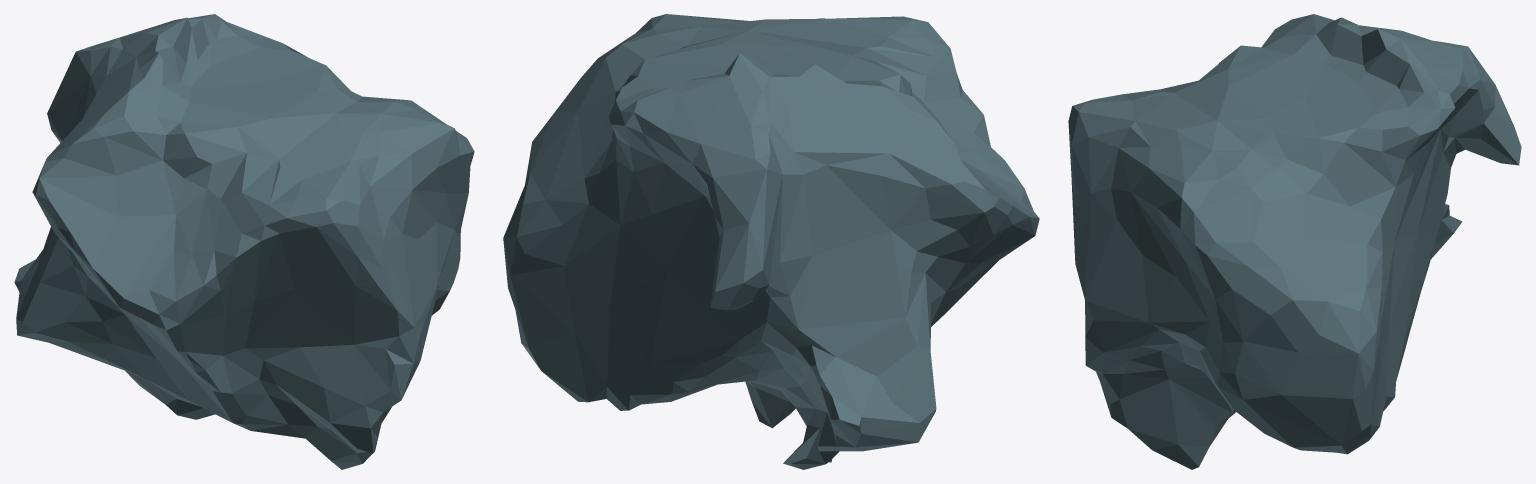
Rendered from RockBB.fbx.
3 views of the same model, side by side, from view 1: azimuth 30°, elevation 25°; view 2: azimuth 150°, elevation 25°; view 3: azimuth 270°, elevation 25° (orthographic). The views are drawn at different scales.
Visible parts, largest first — view 1: Rock_B_LOD0; view 2: Rock_B_LOD0; view 3: Rock_B_LOD0.
Part boxes in pixels (left/top/right/bottom): Rock_B_LOD0: left=14, top=14, right=474, bottom=469; Rock_B_LOD0: left=503, top=14, right=1039, bottom=469; Rock_B_LOD0: left=1068, top=14, right=1521, bottom=469.
Size of what is drawn, in the model's own units: 6.75 by 6.42 by 6.44.
